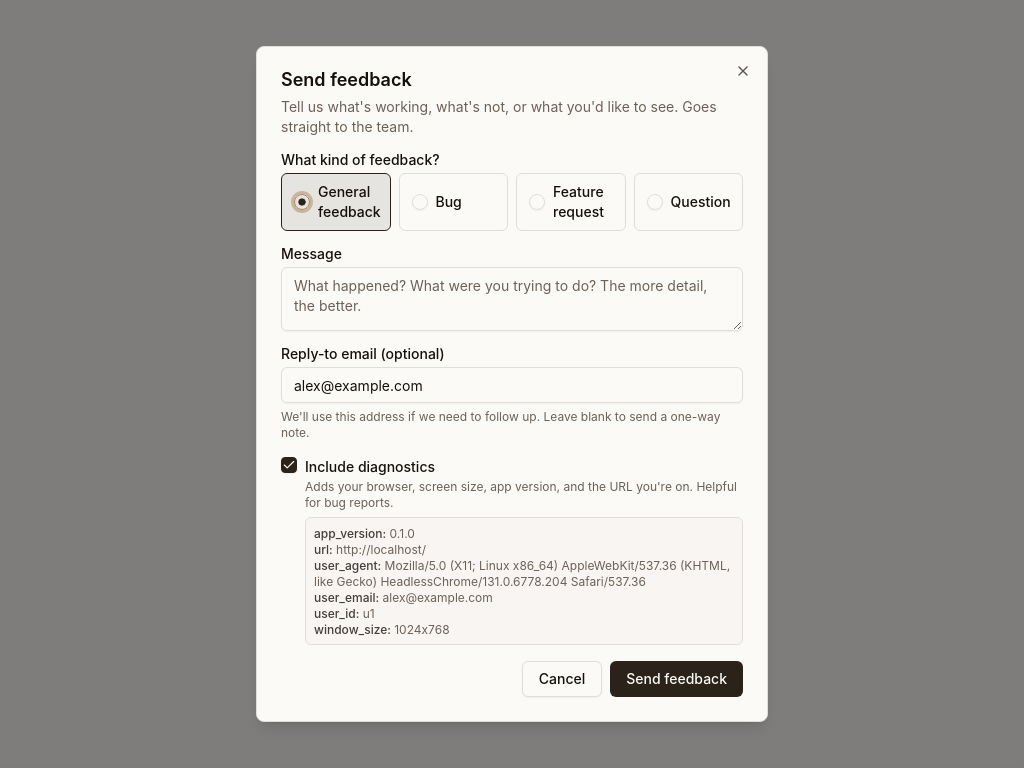
Test case: <FeedbackDialog /> › surfaces a validation error when the message is empty
Expected: the text box with test id "feedback-message" is shown, [281,267,743,331]
Click the button with test id "feedback-submit" at (677, 679), box [610,661,743,697]
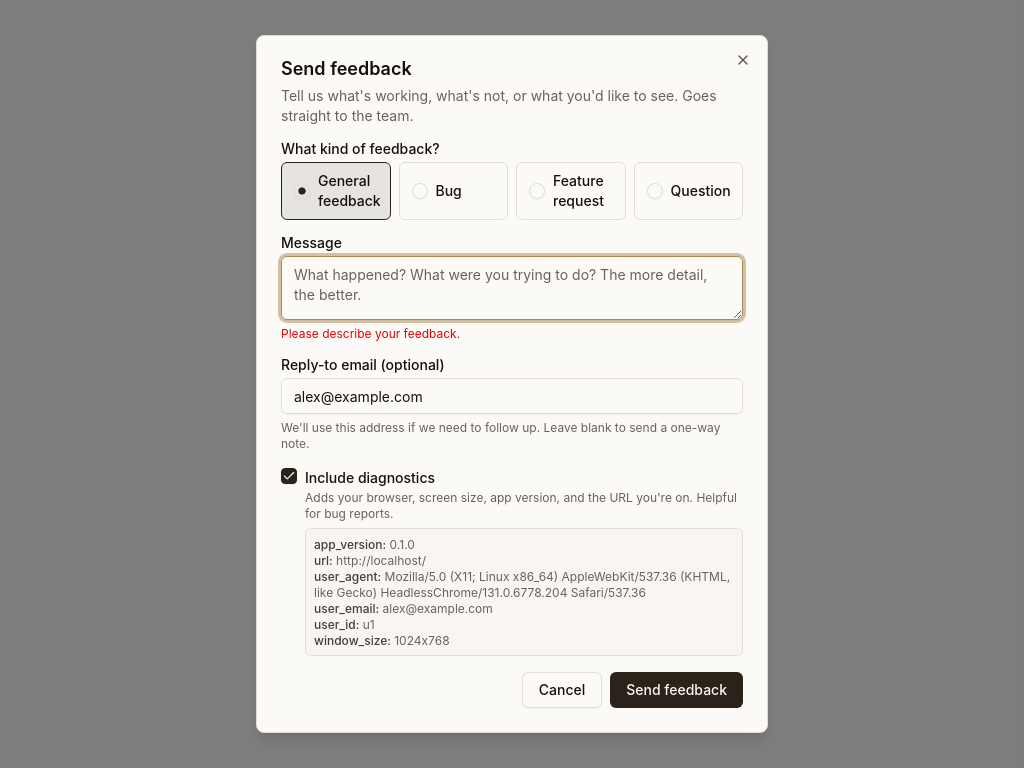
Expected: the text "Please describe your feedback." is shown, [281,326,460,341]
